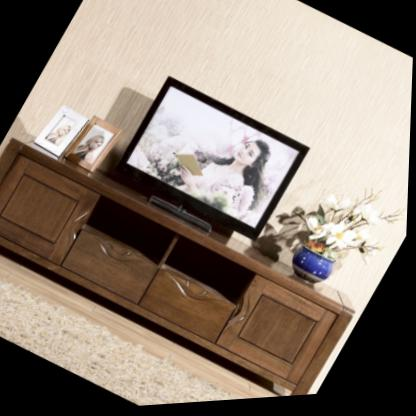Carpet: (0, 275, 246, 408)
TV stand: (0, 107, 371, 416)
